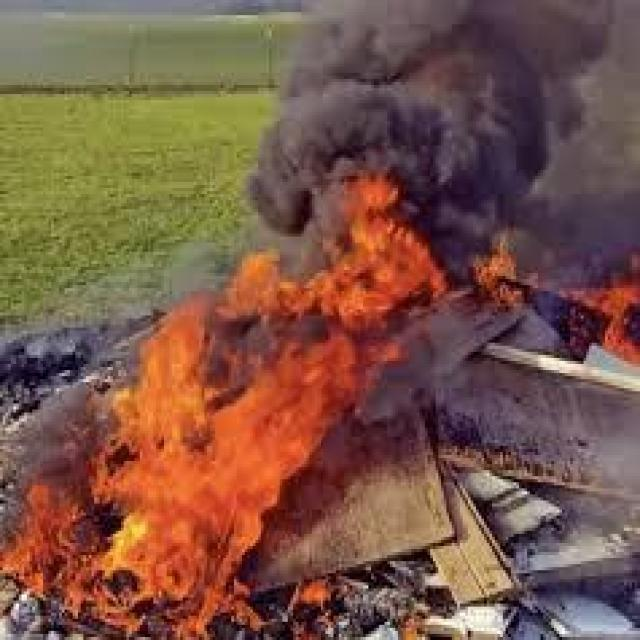Fire: (0, 169, 446, 640), (471, 258, 640, 372)
Smoke: (252, 2, 622, 245)
